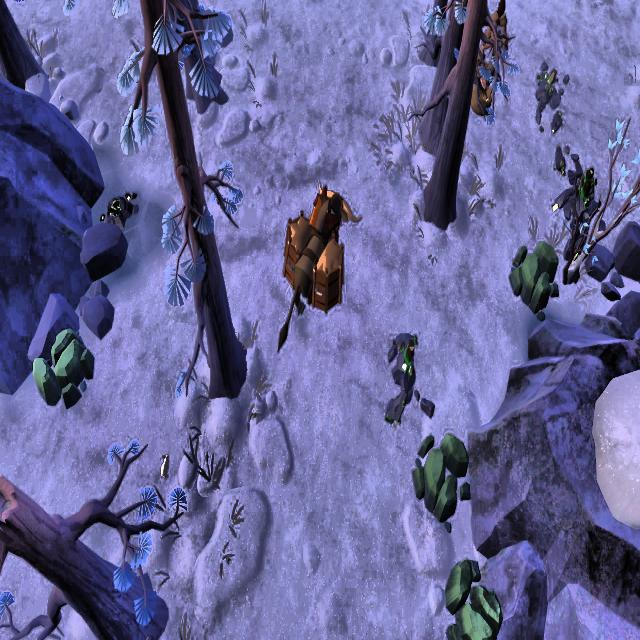rock_t3: (406, 428, 472, 522), (435, 558, 504, 640), (31, 324, 94, 409), (506, 236, 560, 314)
